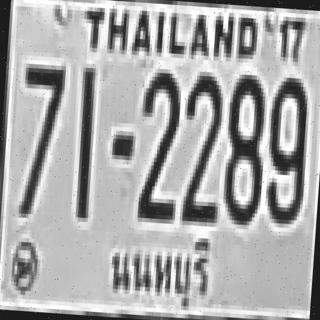N01: (71, 65, 97, 220)
N02: (134, 68, 181, 220), (178, 70, 223, 222)
N07: (13, 59, 64, 216), (16, 61, 64, 181)
N08: (219, 70, 267, 222)
N09: (262, 72, 309, 220)
P37: (103, 228, 214, 320)
